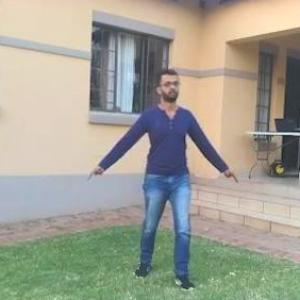land: (95, 76, 230, 274)
